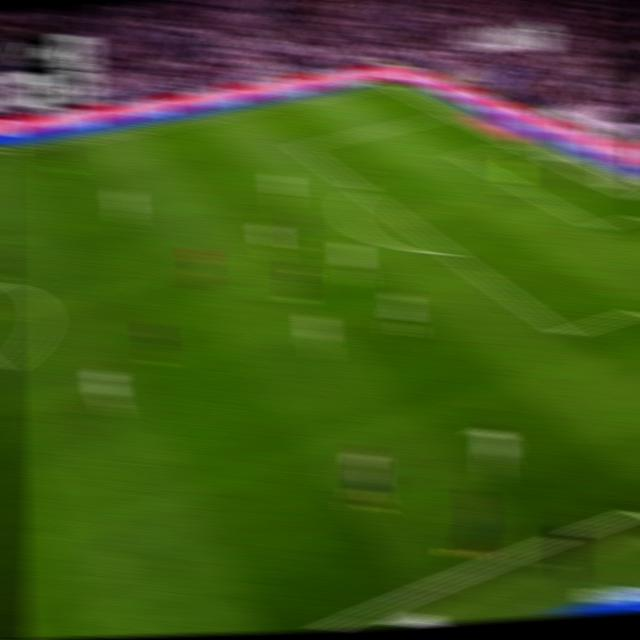bigarea_bottom_inner: (552, 319, 577, 346)
bigarea_top_inner: (291, 140, 310, 154)
bottom_arc_area_intersection: (436, 242, 460, 261)
corner: (376, 79, 396, 89)
smallarea_bottom_inner: (586, 216, 608, 236)
smallarea_top_inner: (455, 151, 473, 162)
top_arc_area_intersection: (348, 179, 370, 196)
